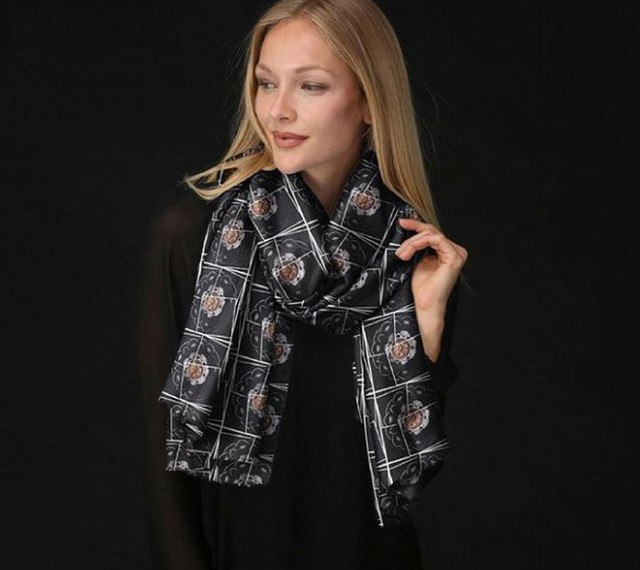face_no_mask: (241, 4, 401, 181)
